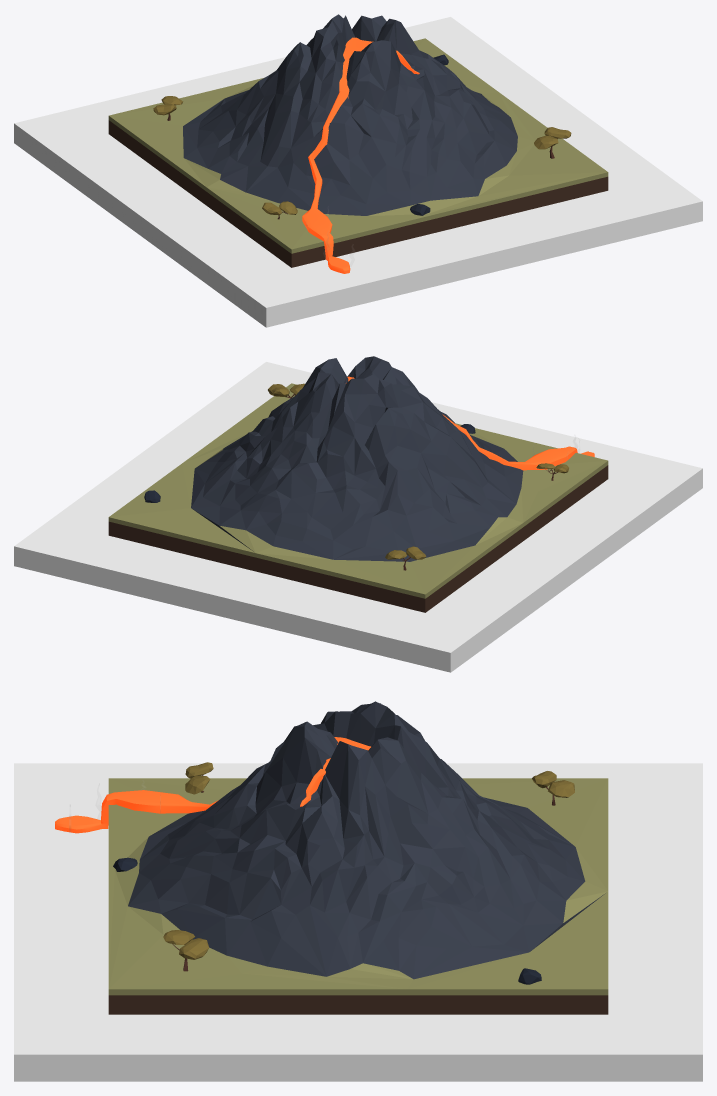
3 views of the same model, one above another, from view 1: azimuth 30°, elevation 25°; view 2: azimuth 150°, elevation 25°; view 3: azimuth 270°, elevation 25° (orthographic). The views are drawn at different scales.
Visible parts, largest first — view 1: Landscape, Plane, Plane.001, Vert.005; view 2: Landscape, Plane, Plane.001; view 3: Landscape, Plane, Plane.001, Vert.005, Vert.004, Vert.006.
Boxes of the visible parts, x1,y1,x2,y2 form: Landscape: (108, 14, 608, 267); Plane: (14, 17, 702, 327); Plane.001: (302, 37, 419, 273); Vert.005: (534, 127, 571, 158); Landscape: (108, 356, 608, 612); Plane: (14, 362, 702, 672); Plane.001: (346, 376, 594, 470); Landscape: (108, 701, 608, 1014); Plane: (14, 763, 702, 1081); Plane.001: (55, 737, 370, 833); Vert.005: (163, 930, 209, 971); Vert.004: (532, 771, 574, 805); Vert.006: (185, 762, 213, 794).
Bounding box in the file's own units: 2.76 × 0.9766 × 2.76.
